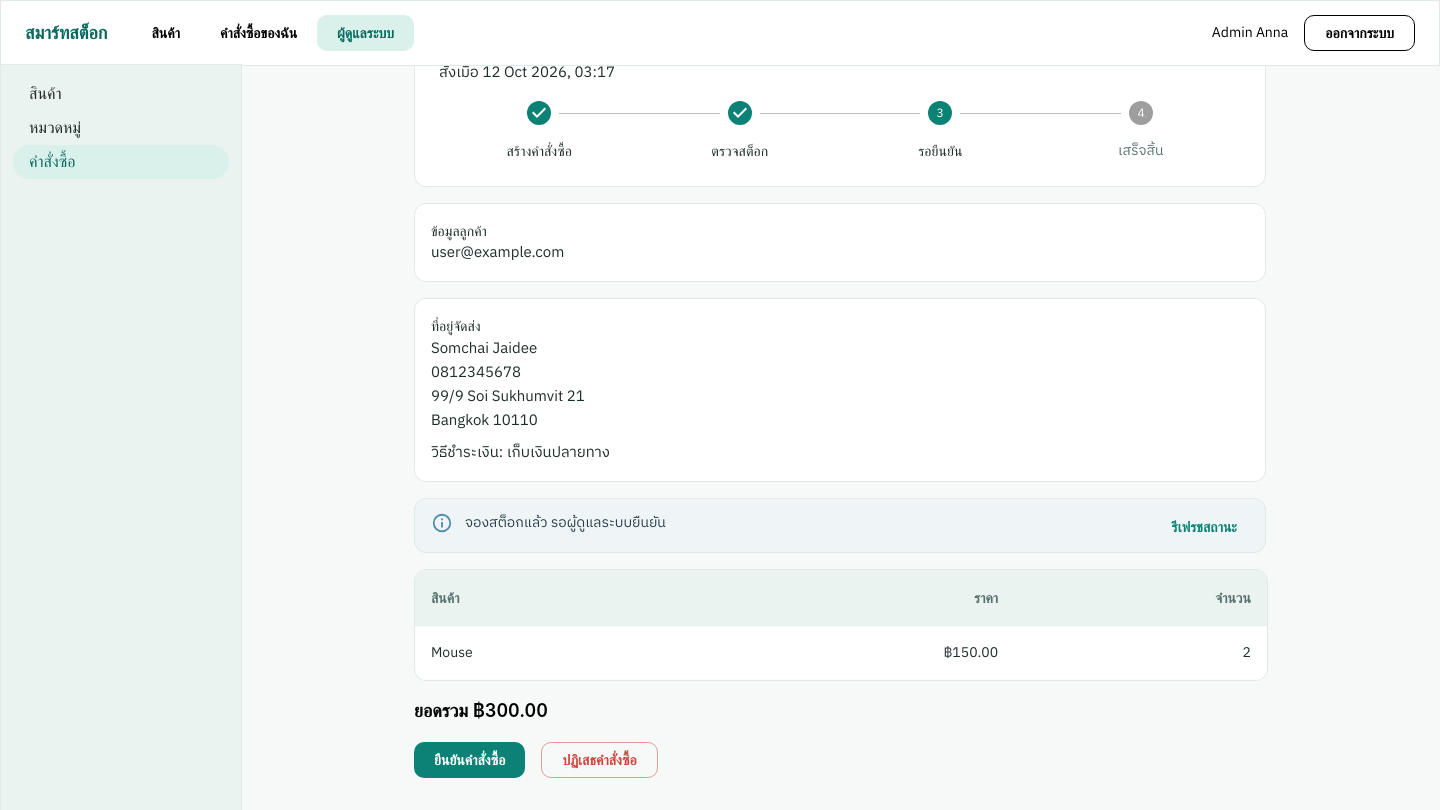
Test: requires a reason to reject
The image size is (1440, 810).
(page scrolled)
Click the button "ปฏิเสธคำสั่งซื้อ": (600, 760) top-left (541, 742), bottom-right (658, 778)
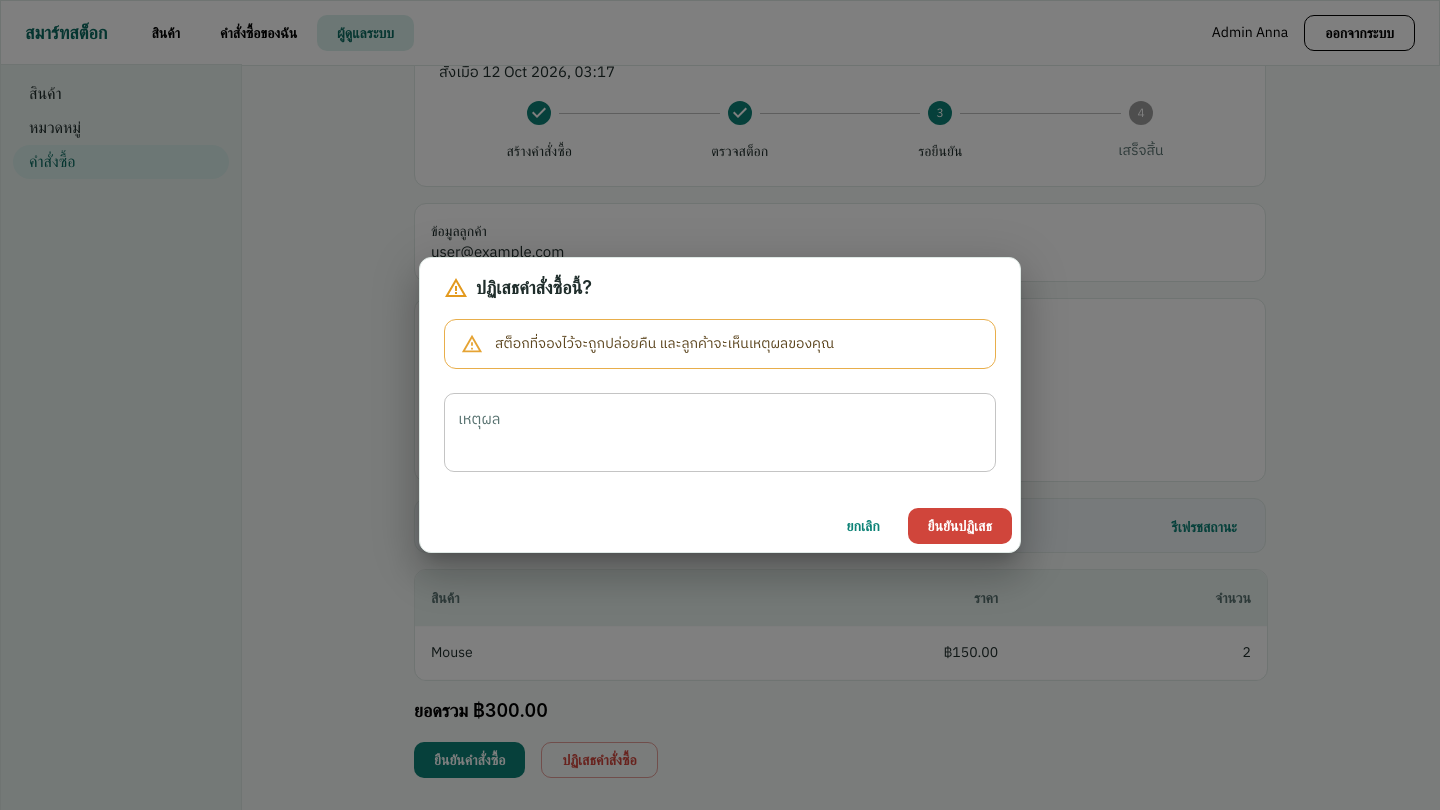
Click the button "ยืนยันปฏิเสธ": (960, 526) top-left (908, 508), bottom-right (1012, 544)
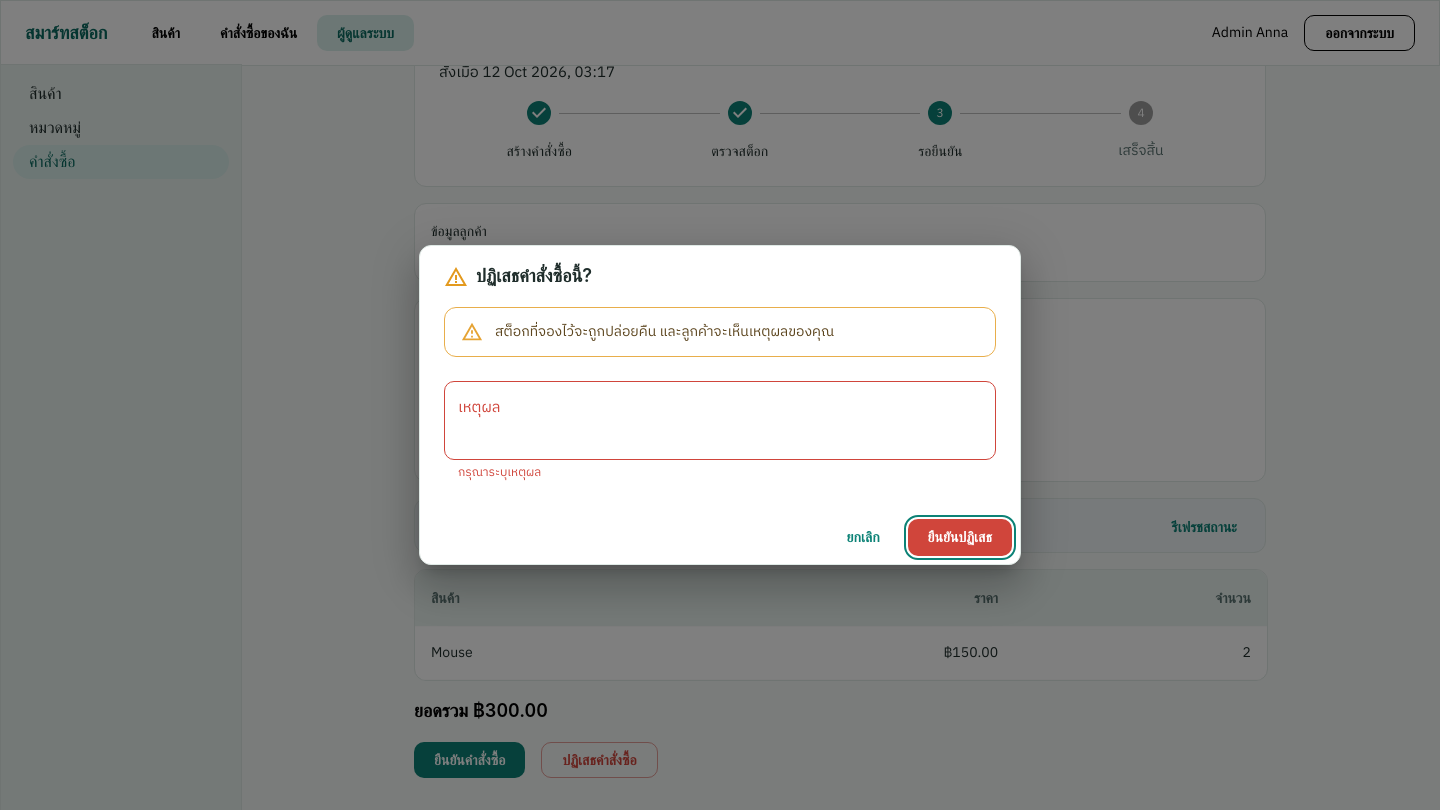
Check: the text "กรุณาระบุเหตุผล" is shown, box top-left (458, 463), bottom-right (541, 482)
